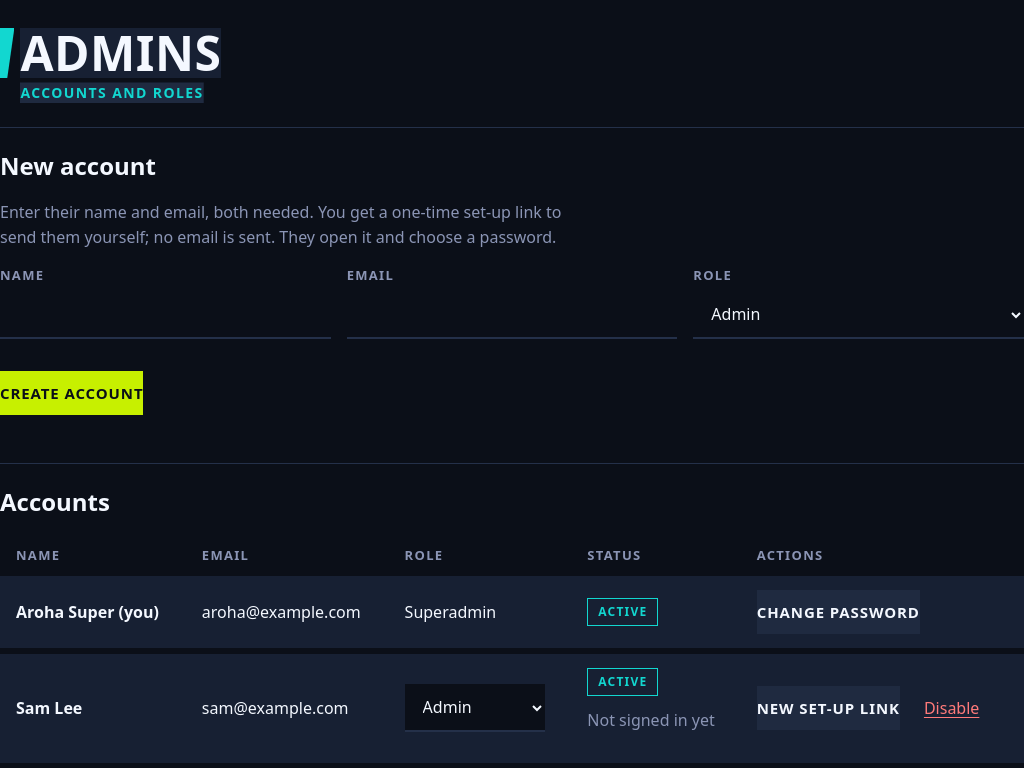
Admins screen (A-09) › asks before changing a role: Cancel keeps it, Change role saves it, a refusal puts it back
Select "Superadmin" in the dropdown named "Role for Sam Lee" at coordinates (475, 708), box 405,684 -> 545,732
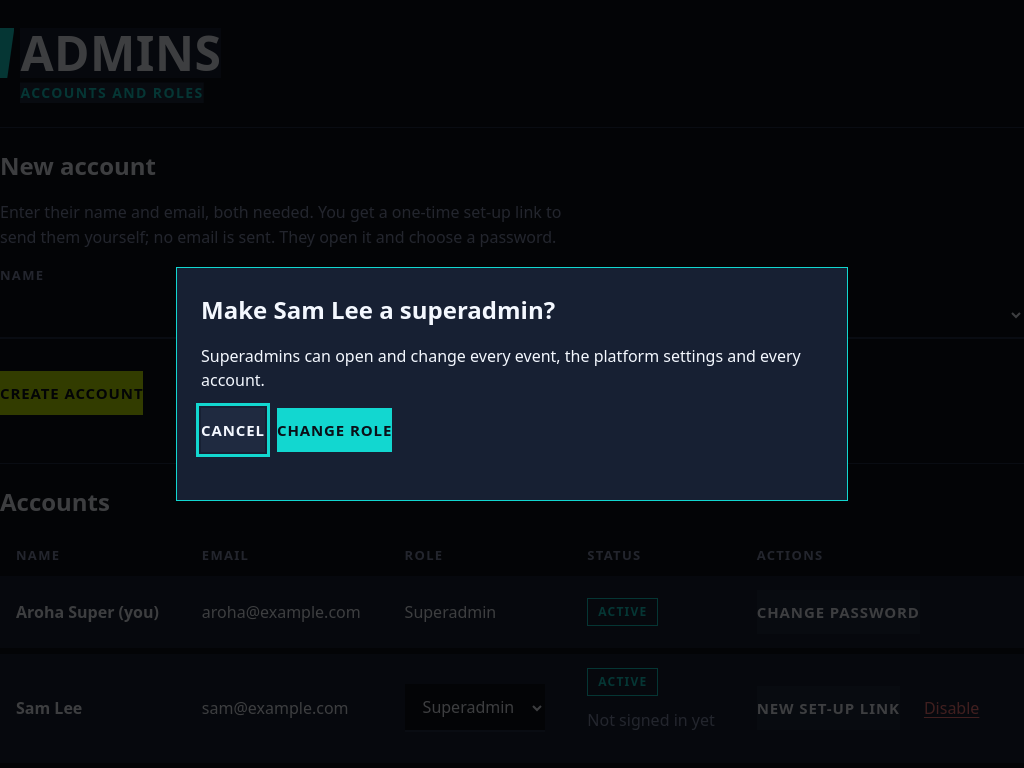
expect the dialog "Make Sam Lee a superadmin?" shows "Superadmins can open and change every event, the platform settings and every account.": met, box 201,345 -> 801,391
Click the button "Cancel" at coordinates (233, 430), box 201,408 -> 265,452
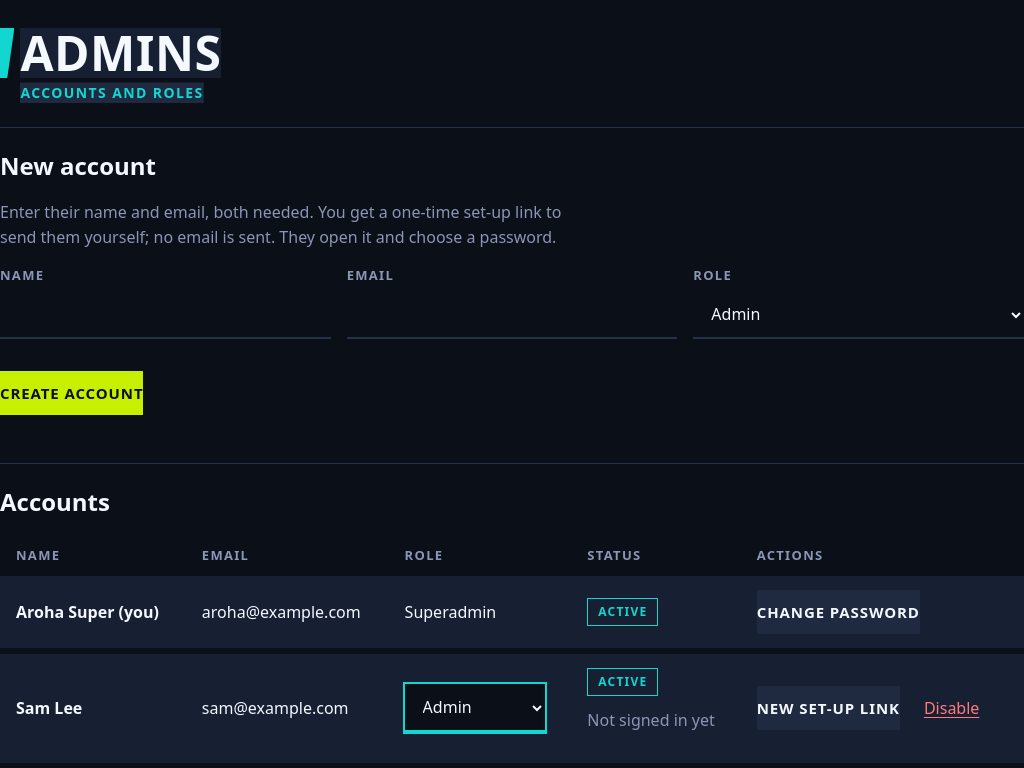
Select "Superadmin" in the dropdown named "Role for Sam Lee" at coordinates (475, 708), box 405,684 -> 545,732
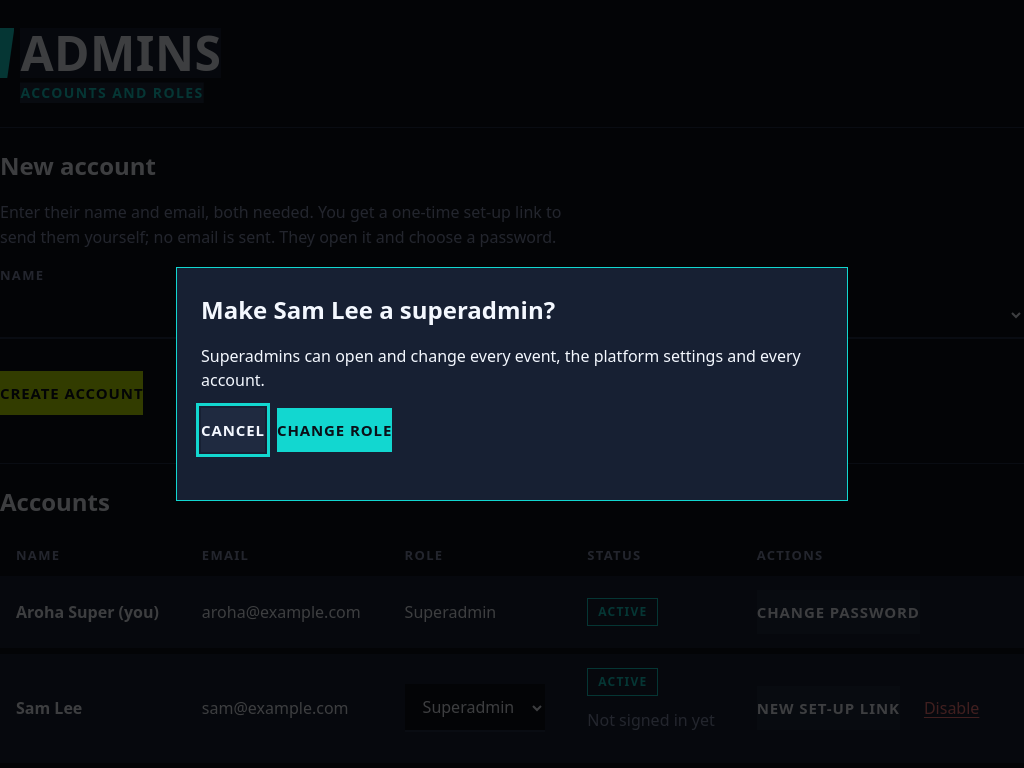
Click the button "Change role" at coordinates (335, 430), box 277,408 -> 392,452
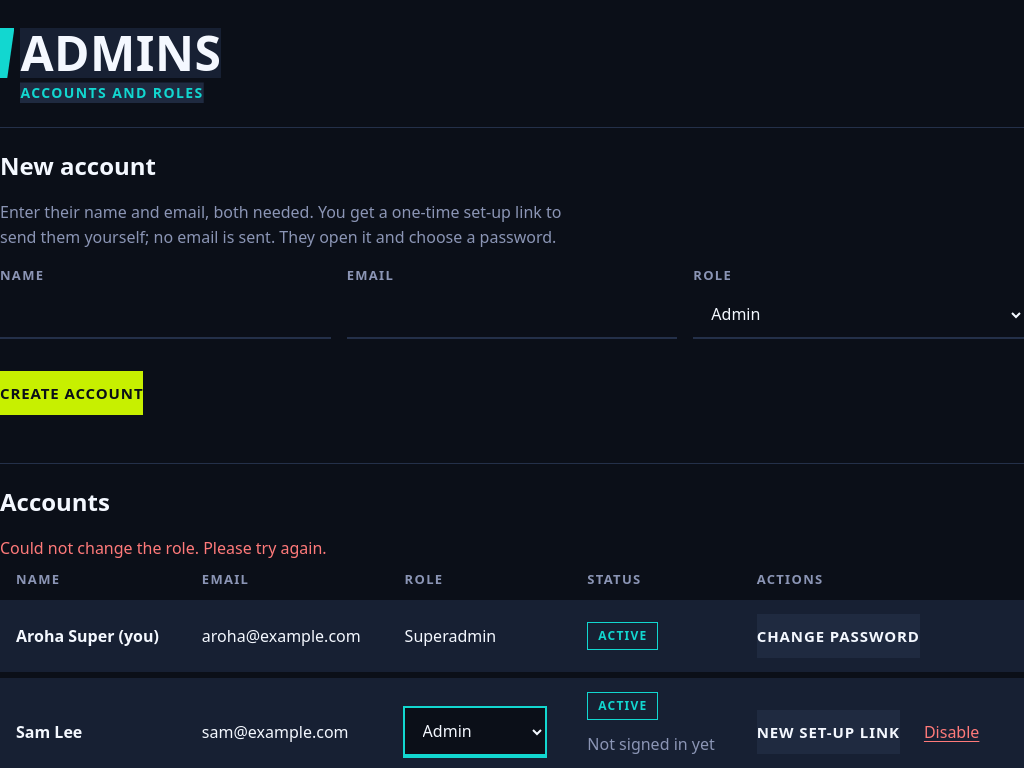
expect the text "Could not change the role. Please try again." is shown: met, box 0,538 -> 327,560
Select "Superadmin" in the dropdown named "Role for Sam Lee" at coordinates (475, 732), box 405,708 -> 545,756
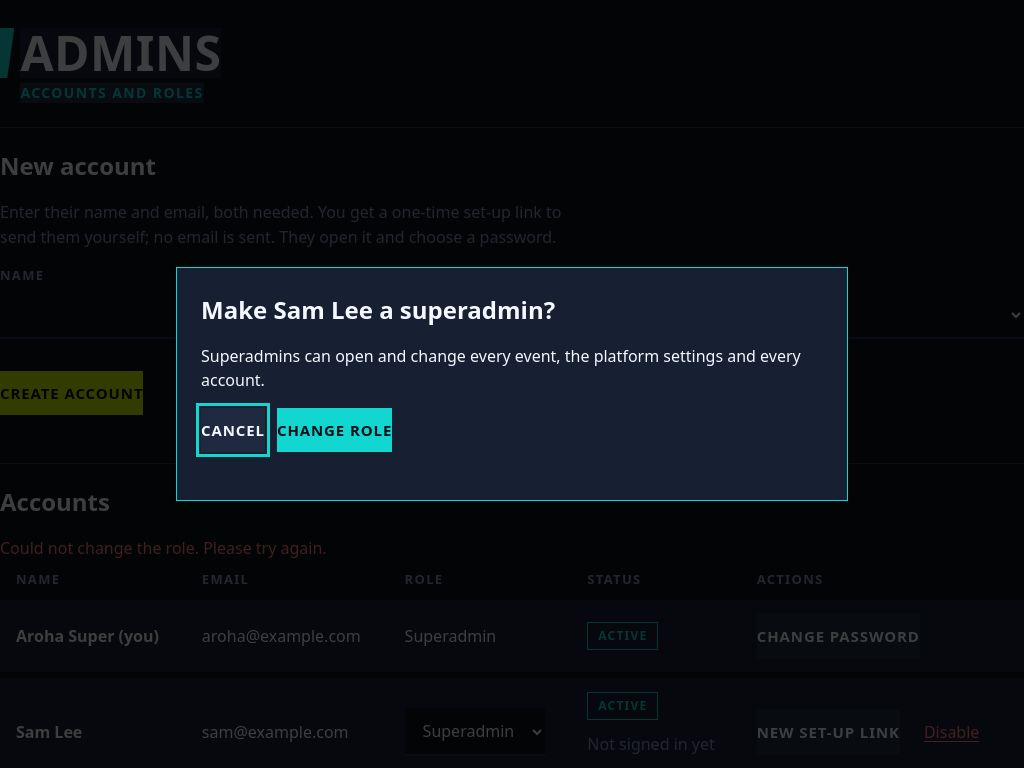
Click the button "Change role" at coordinates (335, 430), box 277,408 -> 392,452
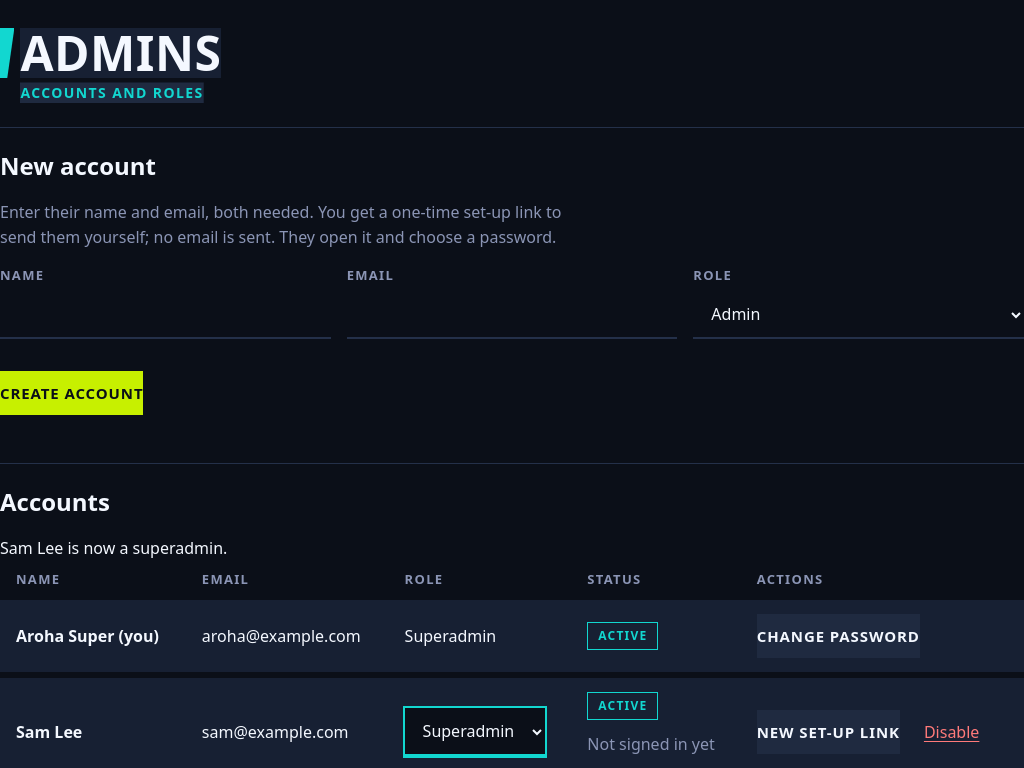
expect the text "Sam Lee is now a superadmin." is shown: met, box 0,538 -> 227,560
